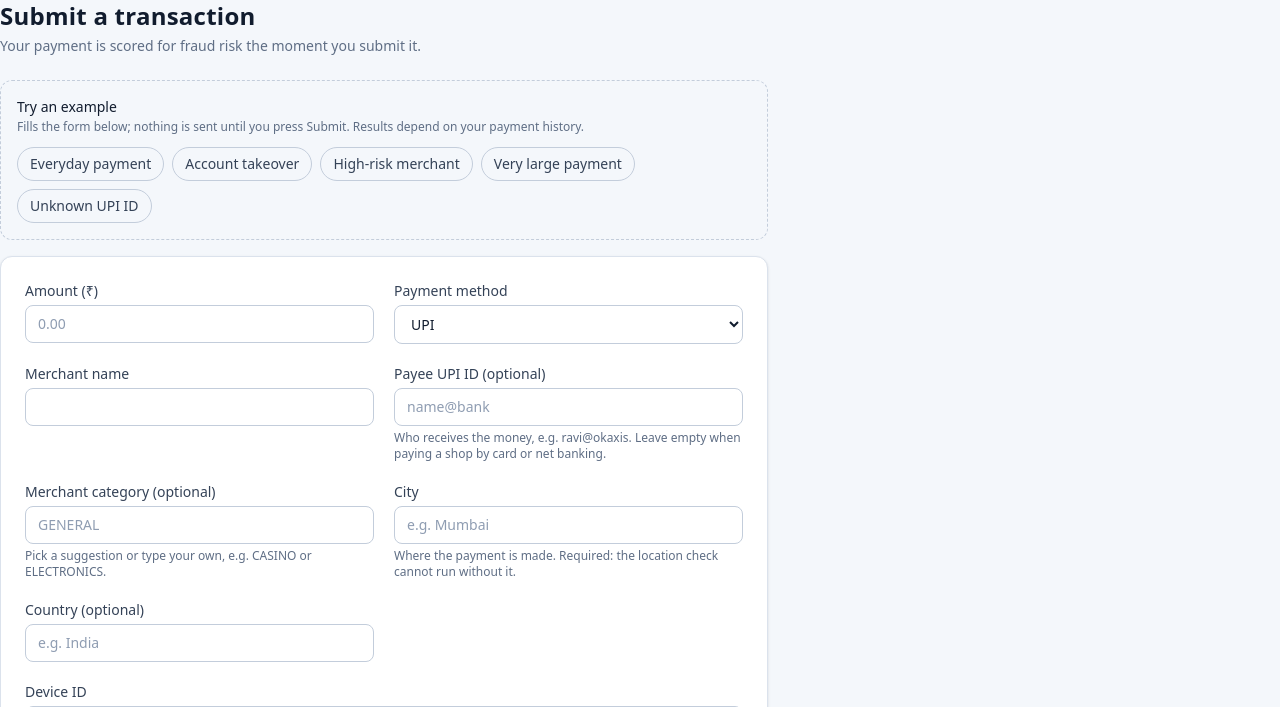
it: SubmitTransaction: payee UPI ID › a malformed UPI ID is refused in the form and nothing is sent
The image size is (1280, 707).
Type "9500" into the number field labelled "Amount (₹)". click: (200, 324)
box: [25,305,374,343]
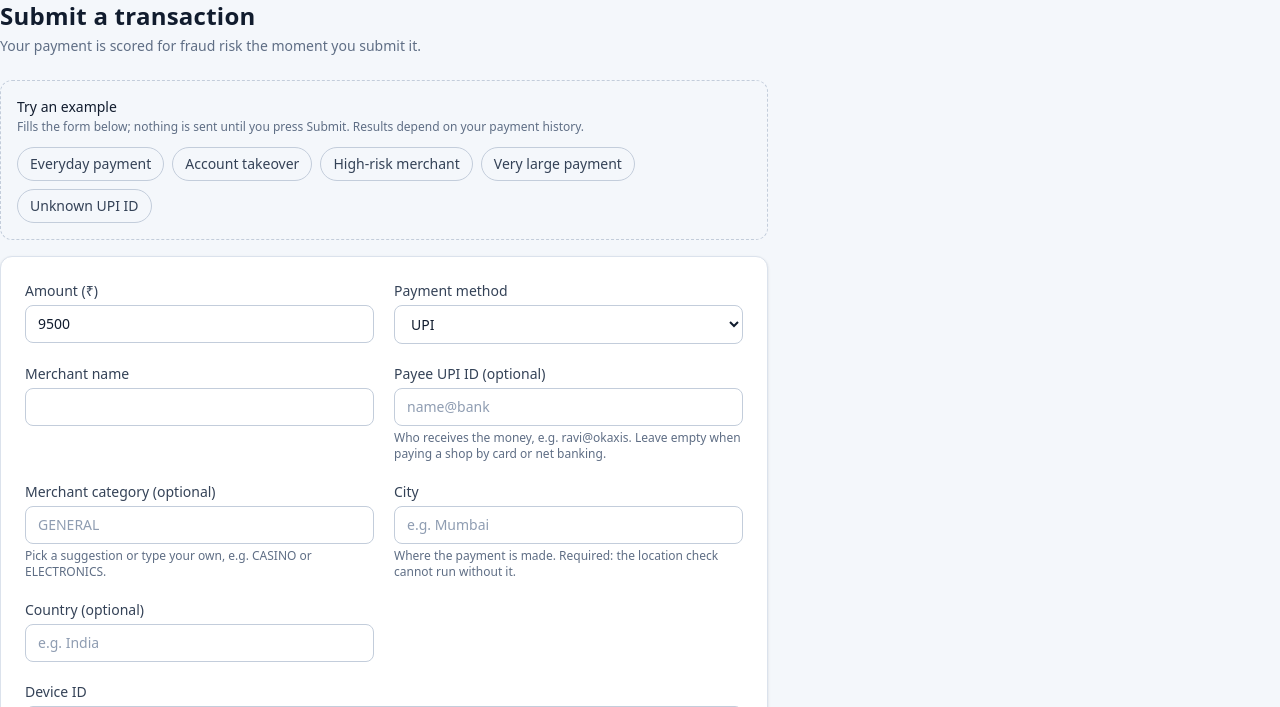
Type "Easy Loan Helpdesk" into the field labelled "Merchant name". click: (200, 407)
box: [25,388,374,426]
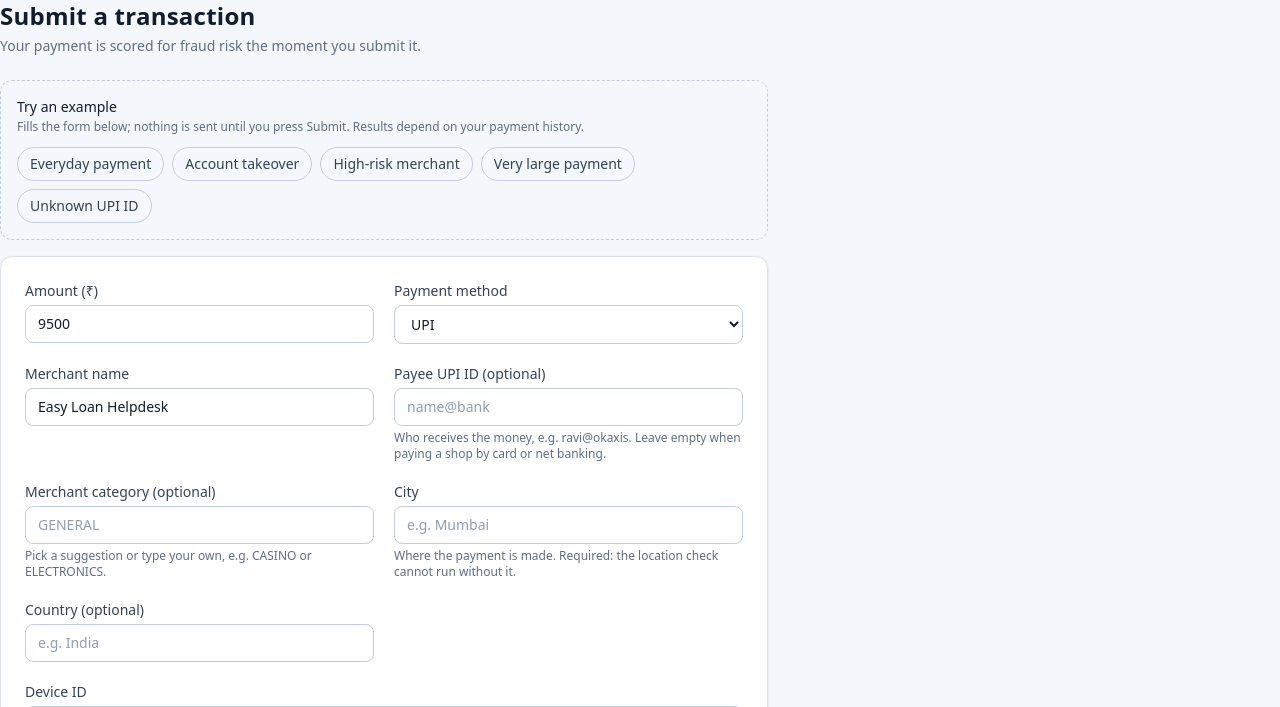
Type "Pune" into the field labelled "City". click: (568, 525)
box: [394,506,743,544]
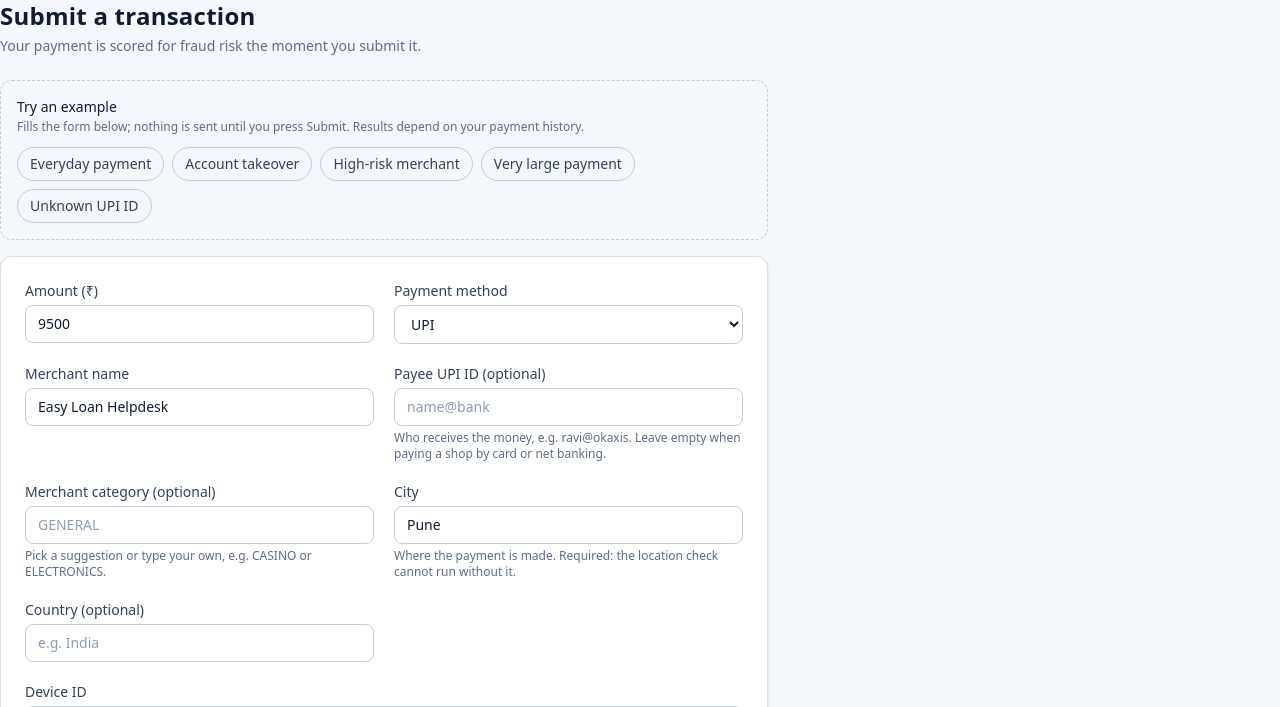
Type "ravi@" into the field labelled "Payee UPI ID (optional)". click: (568, 407)
box: [394,388,743,426]
(page scrolled)
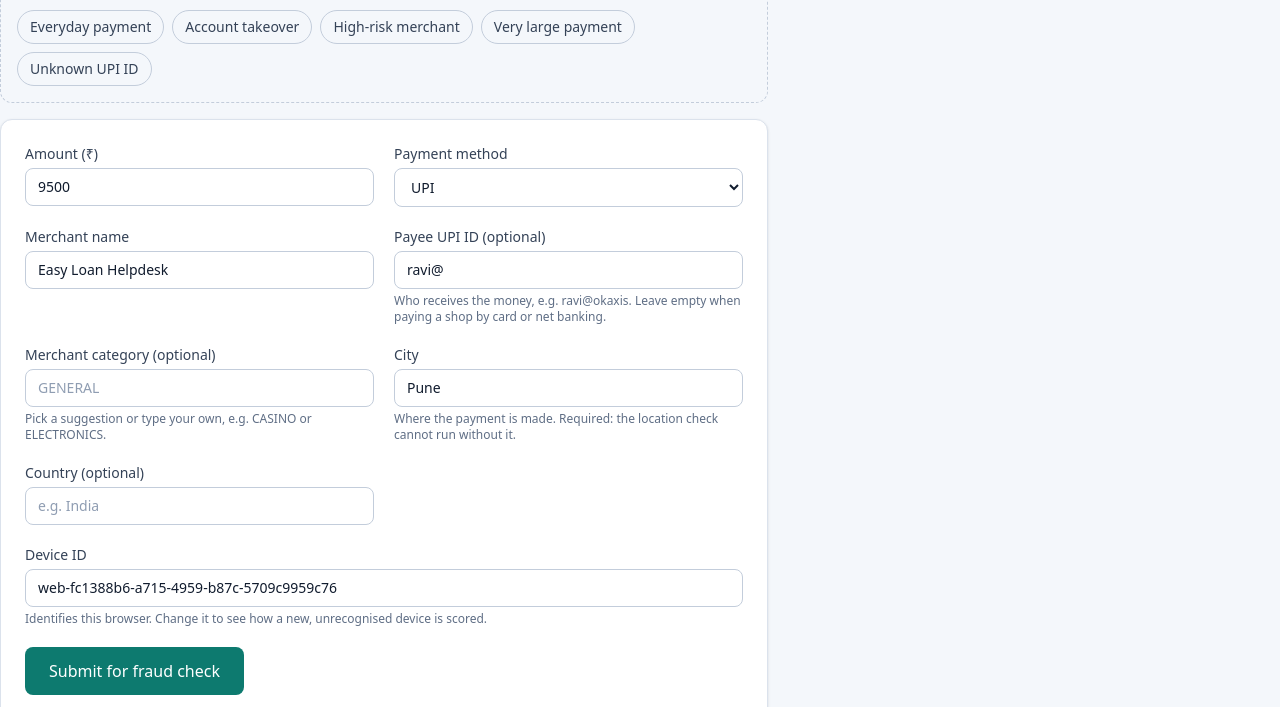
Click the button "Submit for fraud check". click: (134, 671)
box: [25,647,244,695]
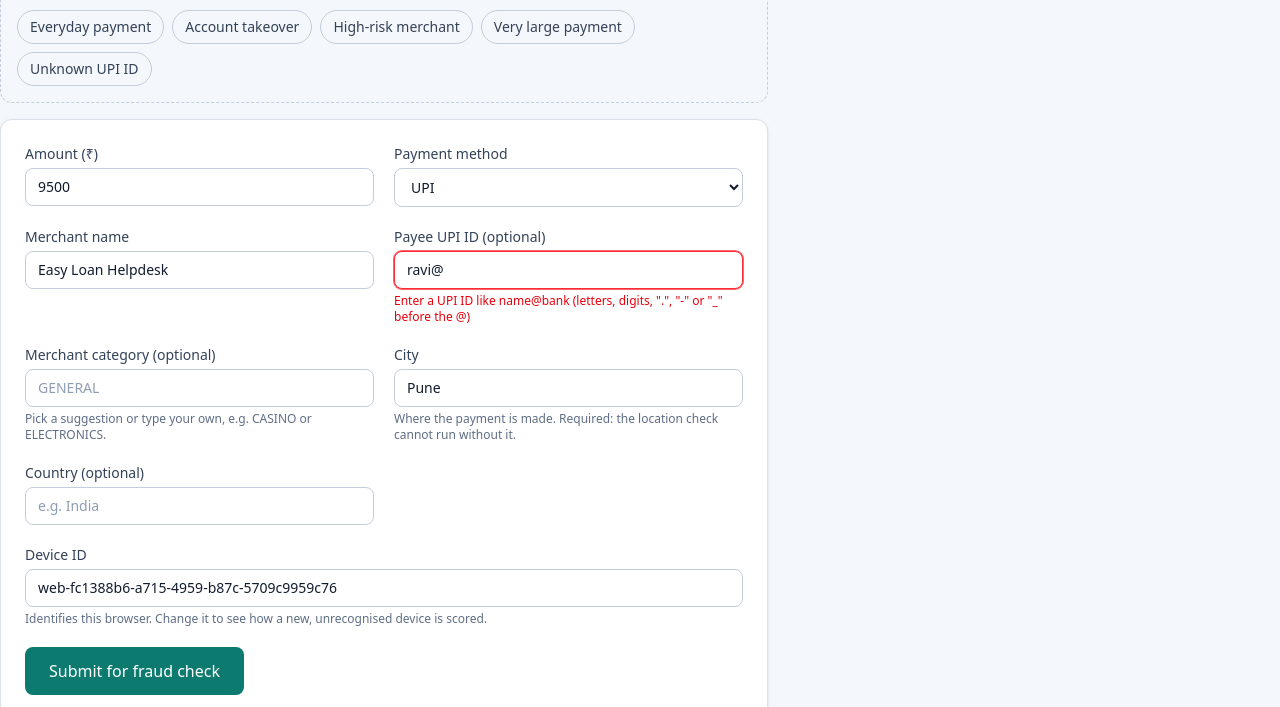
Expected: the text "Enter a UPI ID like name@bank (letters, digits, \".\", \"-\" or \"_\" before the @)" is shown, [394,293,743,325]
